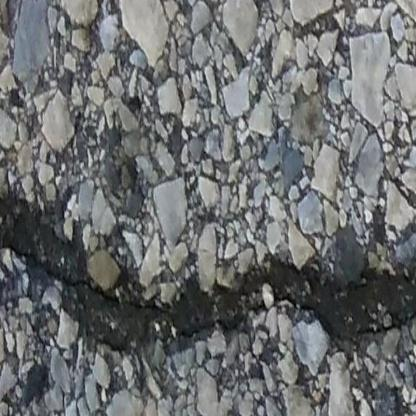Cracks: (0, 193, 416, 357)
